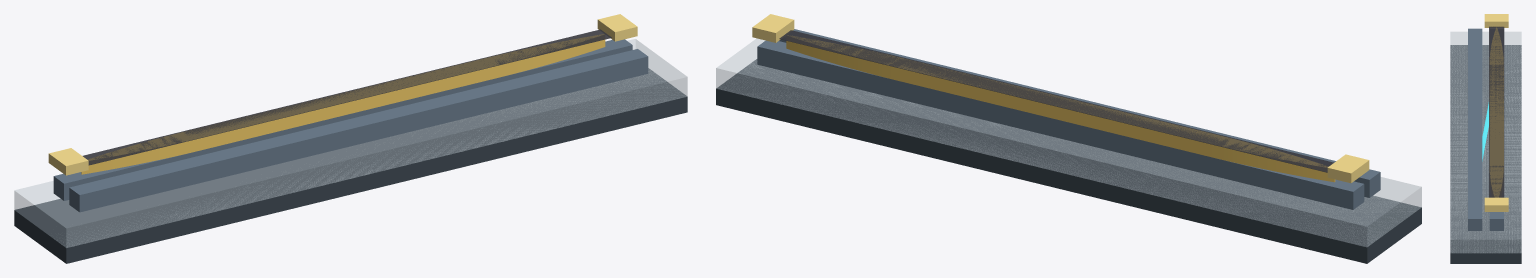
Rendered from sb2s3_switch_cell_3d.glb.
3 renders of one model, left to right at view 1: azimuth 30°, elevation 25°; view 2: azimuth 150°, elevation 25°; view 3: azimuth 270°, elevation 25°, orthographic. The views are drawn at different scales.
Parts seen in each view (by area): view 1: Silicon_Handle_Wafer, SiO2_Buried_Oxide, Waveguide_2_Cross, Sb2S3_Active_Patch, Graphene_MicroHeater, Waveguide_1_Bar, Gold_Electrode_In, Gold_Electrode_Out; view 2: Silicon_Handle_Wafer, SiO2_Buried_Oxide, Waveguide_1_Bar, Sb2S3_Active_Patch, Graphene_MicroHeater, Waveguide_2_Cross, Gold_Electrode_In, Gold_Electrode_Out; view 3: Silicon_Handle_Wafer, SiO2_Buried_Oxide, Waveguide_2_Cross, Graphene_MicroHeater, Sb2S3_Active_Patch, Gold_Electrode_Out, Gold_Electrode_In, Waveguide_1_Bar, Optical_Mode_TE00.
Boxes of the visible parts, x1,y1,x2,y2 form: Silicon_Handle_Wafer: [14, 68, 687, 263]; SiO2_Buried_Oxide: [14, 39, 687, 247]; Waveguide_2_Cross: [69, 49, 648, 212]; Sb2S3_Active_Patch: [81, 34, 605, 174]; Graphene_MicroHeater: [83, 29, 611, 165]; Waveguide_1_Bar: [53, 39, 632, 200]; Gold_Electrode_In: [48, 148, 88, 175]; Gold_Electrode_Out: [597, 14, 637, 41]; Silicon_Handle_Wafer: [716, 59, 1421, 263]; SiO2_Buried_Oxide: [716, 38, 1421, 246]; Waveguide_1_Bar: [757, 40, 1364, 209]; Sb2S3_Active_Patch: [786, 35, 1335, 182]; Graphene_MicroHeater: [779, 30, 1333, 172]; Waveguide_2_Cross: [779, 29, 1380, 197]; Gold_Electrode_In: [1327, 154, 1369, 183]; Gold_Electrode_Out: [752, 14, 794, 42]; Silicon_Handle_Wafer: [1450, 45, 1521, 263]; SiO2_Buried_Oxide: [1450, 31, 1521, 253]; Waveguide_2_Cross: [1468, 28, 1482, 230]; Graphene_MicroHeater: [1489, 26, 1504, 197]; Sb2S3_Active_Patch: [1490, 28, 1503, 197]; Gold_Electrode_Out: [1484, 197, 1508, 211]; Gold_Electrode_In: [1484, 14, 1508, 27]; Waveguide_1_Bar: [1489, 212, 1503, 230]; Optical_Mode_TE00: [1482, 102, 1488, 161].
Bounding box in the file's own units: 8.25 × 0.93 × 1.2.
